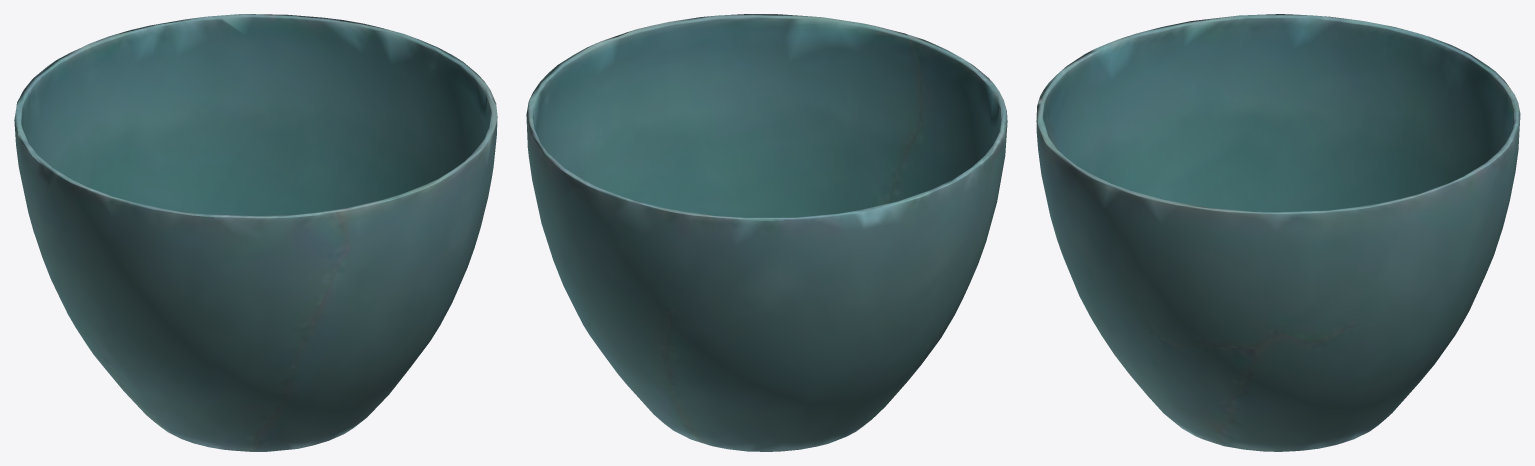
The model's file is Ecoforms_Plant_Bowl_Turquoise_7-high.glb.
3 views of the same model, side by side, from view 1: azimuth 30°, elevation 25°; view 2: azimuth 150°, elevation 25°; view 3: azimuth 270°, elevation 25° (orthographic).
Visible parts, largest first — view 1: Ecoforms_Plant_Bowl_Turquoise_7; view 2: Ecoforms_Plant_Bowl_Turquoise_7; view 3: Ecoforms_Plant_Bowl_Turquoise_7.
Boxes of the visible parts, x1=… form: Ecoforms_Plant_Bowl_Turquoise_7: x1=14, y1=14, x2=497, y2=451; Ecoforms_Plant_Bowl_Turquoise_7: x1=526, y1=14, x2=1007, y2=451; Ecoforms_Plant_Bowl_Turquoise_7: x1=1036, y1=14, x2=1520, y2=451.
Size of the model in its own units: 0.1816 by 0.1226 by 0.1819.
1 material, 1 textured.
